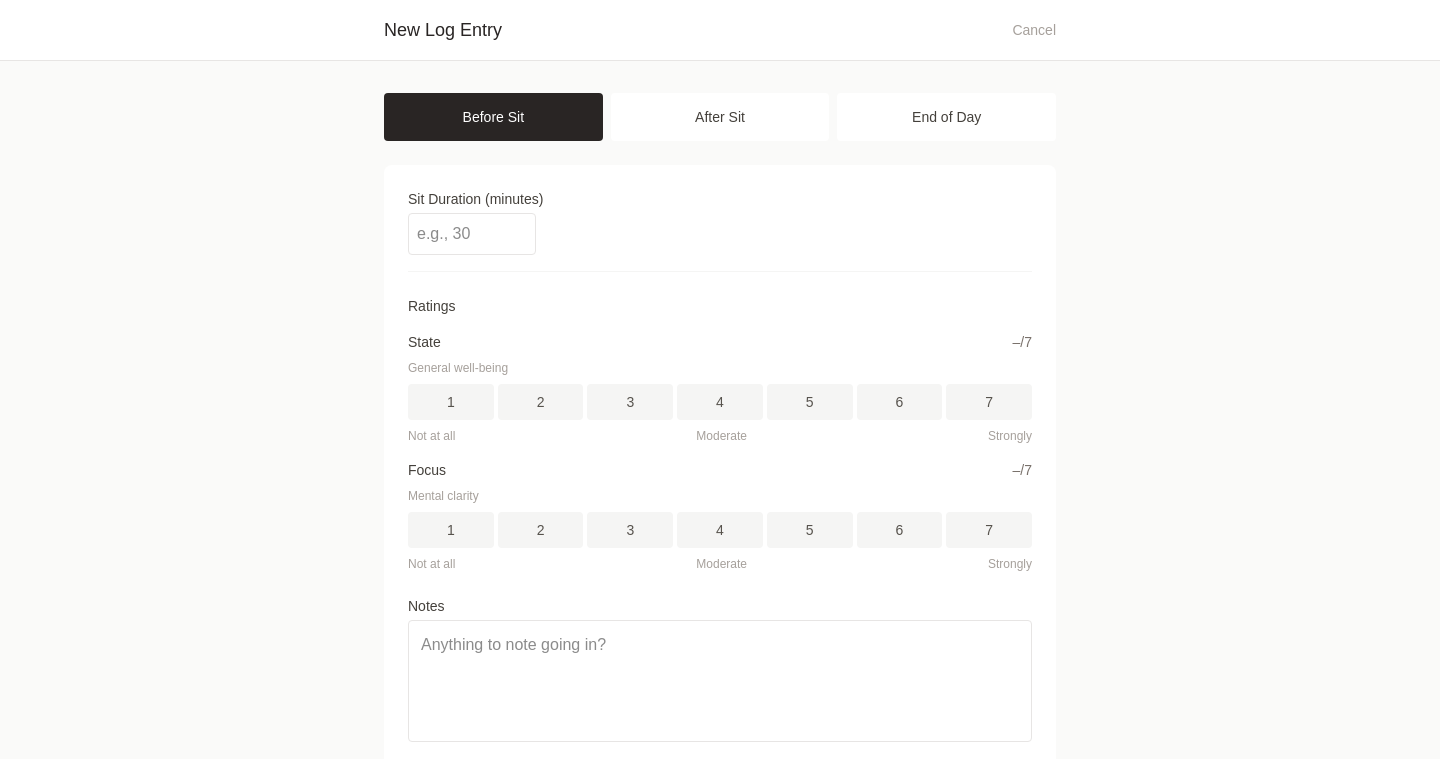
Test case: LogForm › hides sit duration field for eod entry
Click the button "End of Day".
click(947, 117)  # box [837,93,1056,141]
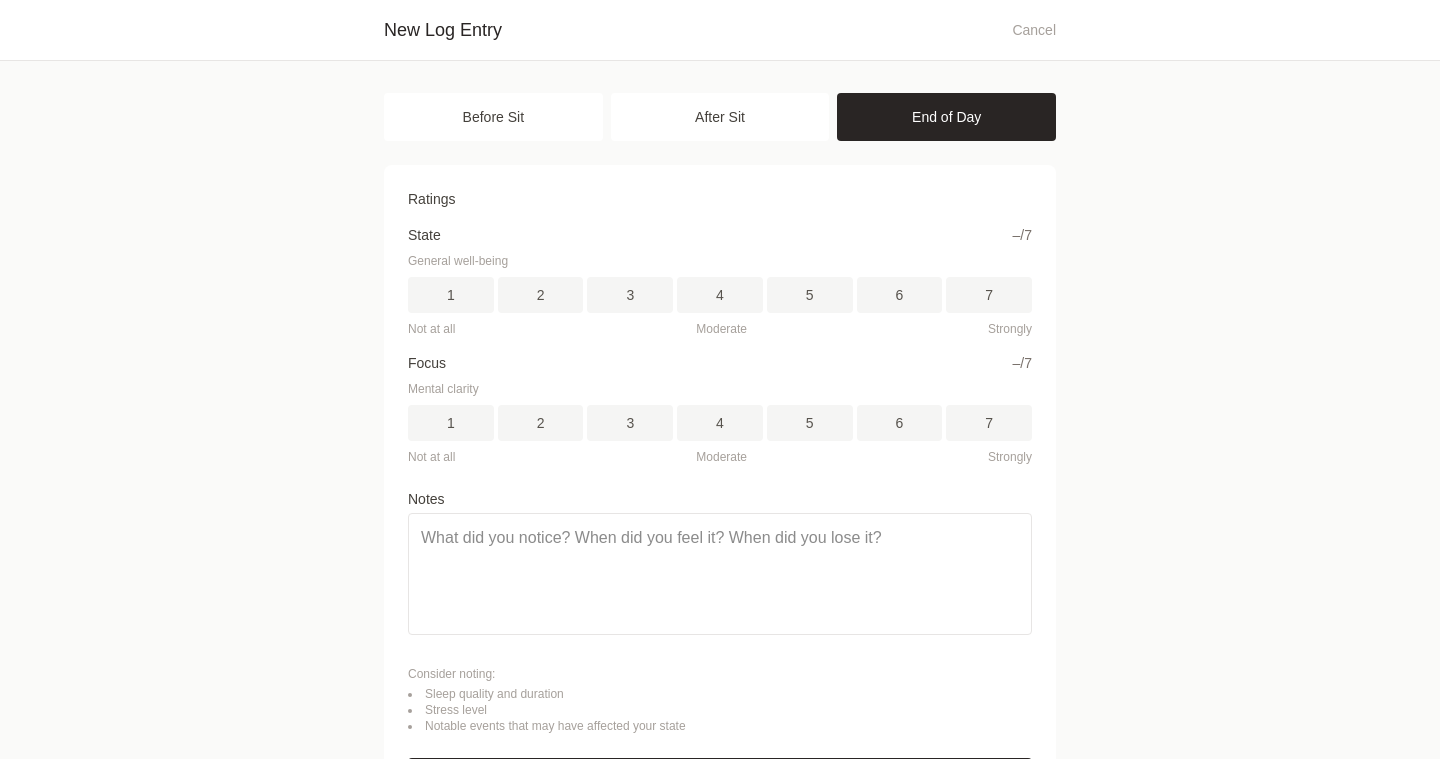
Expected: the text "Sit Duration" is gone
